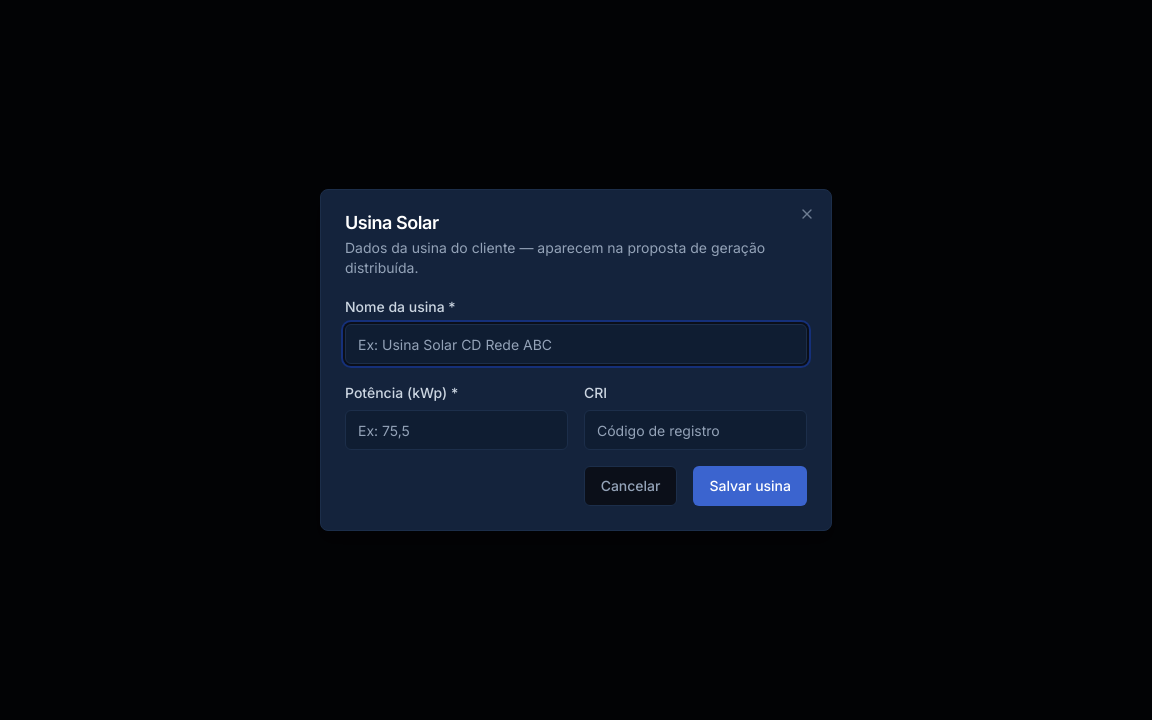
Scenario: FormUsinaSolar › bloqueia salvar sem nome e sem potência
The width and height of the screenshot is (1152, 720).
Click the button "Salvar usina" at (750, 486), box x1=694 y1=466 x2=807 y2=506
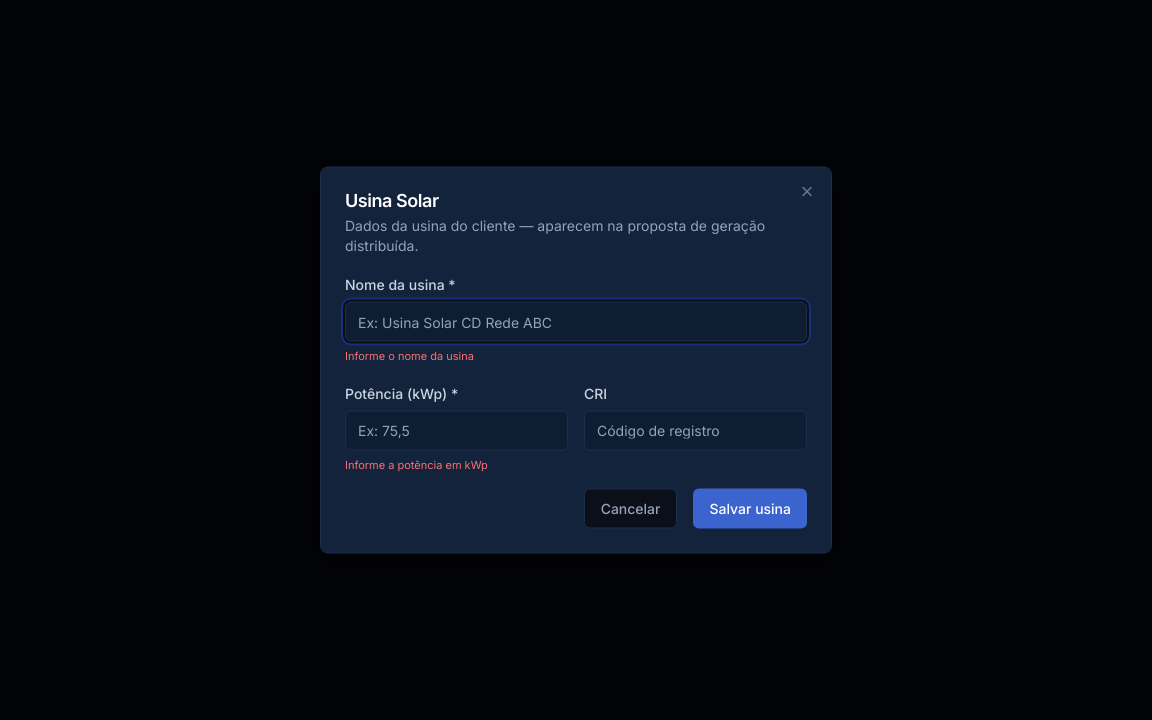
expect the text "Informe o nome da usina" is shown: met, box x1=345 y1=348 x2=474 y2=362
expect the text "Informe a potência em kWp" is shown: met, box x1=345 y1=457 x2=488 y2=471
